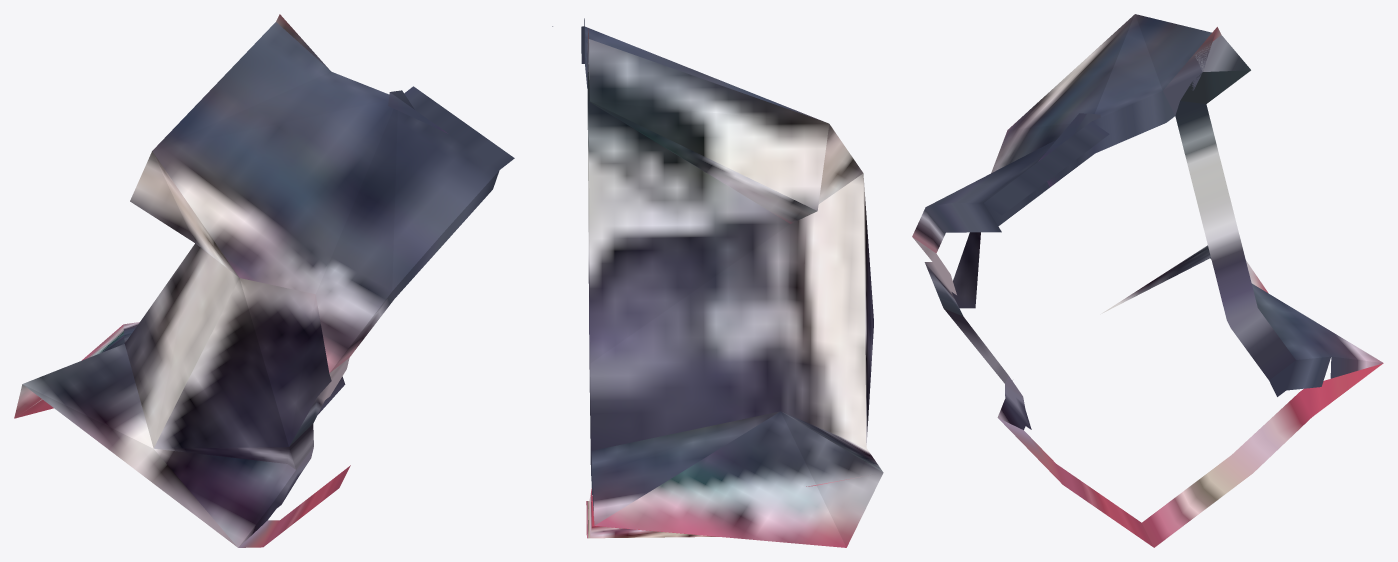
3 renders of one model, left to right at view 1: azimuth 30°, elevation 25°; view 2: azimuth 150°, elevation 25°; view 3: azimuth 270°, elevation 25°, orthographic. The views are drawn at different scales.
Bounding box in the file's own units: 6.55 × 7.4 × 6.26.
1 material, 1 textured.
